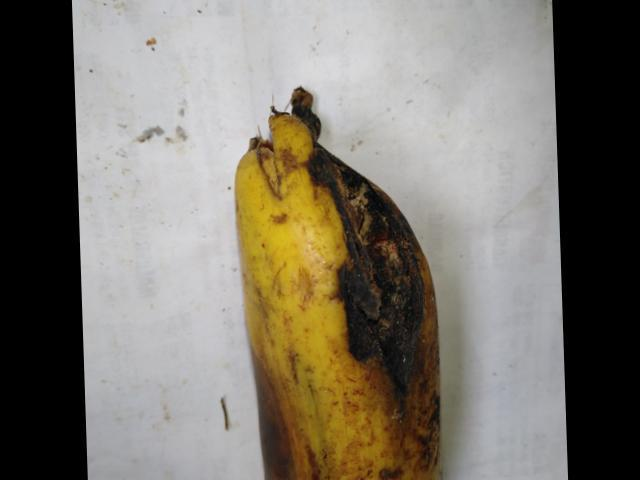ripe: (240, 273, 366, 479)
rotten: (256, 87, 476, 419), (182, 346, 295, 479)
